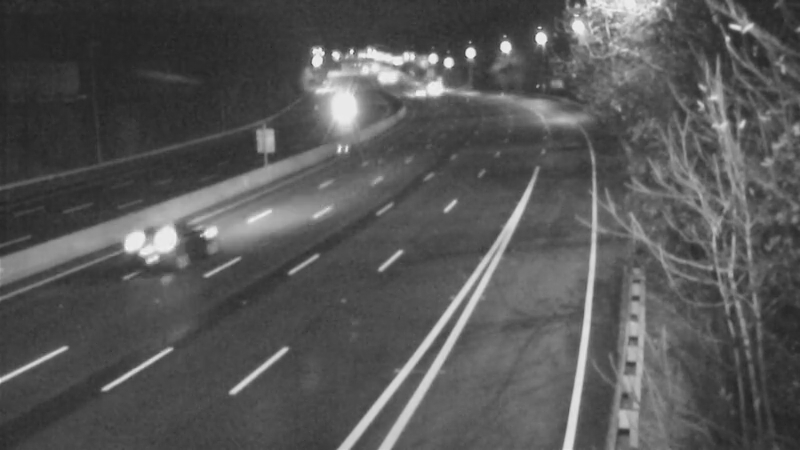vehicle: (113, 193, 193, 273), (407, 61, 457, 111), (394, 69, 444, 119), (314, 83, 364, 133)
